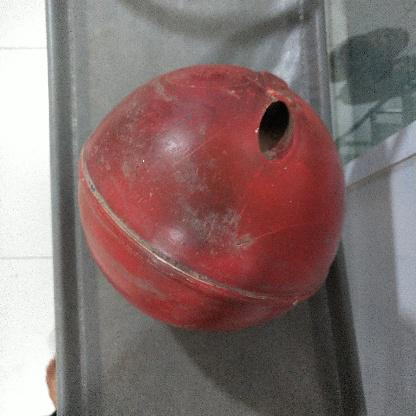red_buoy: (74, 58, 348, 340)
